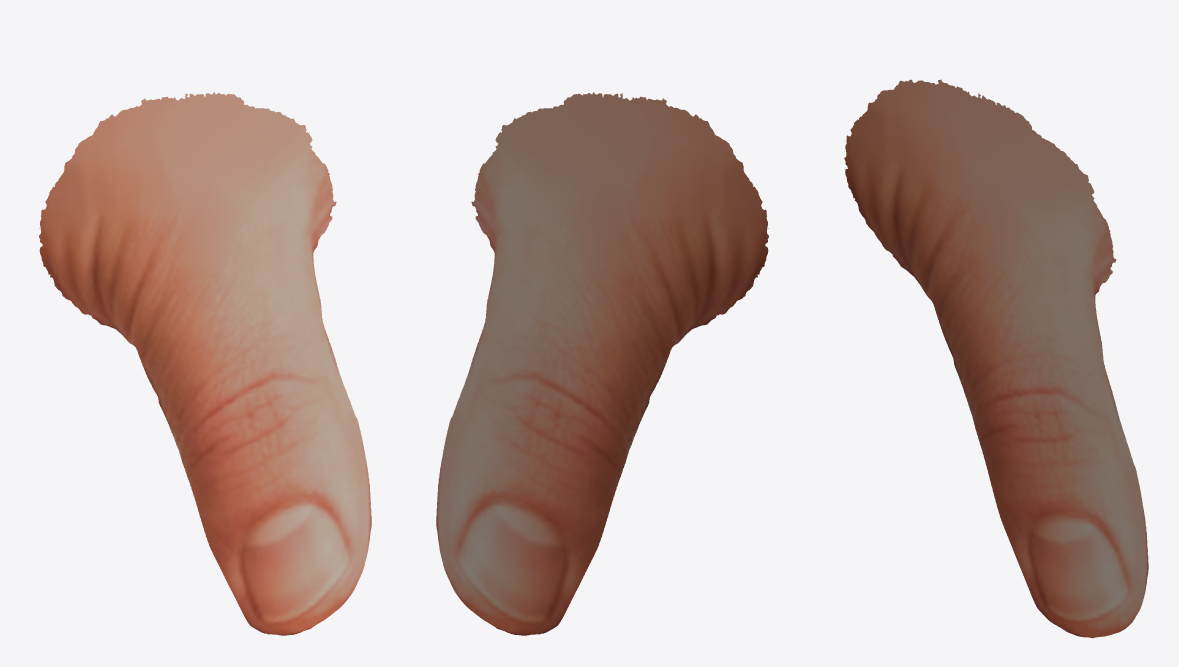
File: hand_1.FBX
3 renders of one model, left to right at view 1: azimuth 30°, elevation 25°; view 2: azimuth 150°, elevation 25°; view 3: azimuth 330°, elevation 25°, orthographic. The views are drawn at different scales.
Visible parts, largest first — view 1: hand_1; view 2: hand_1; view 3: hand_1.
Boxes of the visible parts, box(x1,y1,x2,y2) form: hand_1: box(39, 92, 371, 635); hand_1: box(436, 92, 768, 635); hand_1: box(844, 79, 1148, 638).
Size of the model in its own units: 237 by 398 by 1.66e-05.
Materials: 1 (1 with a texture image).
